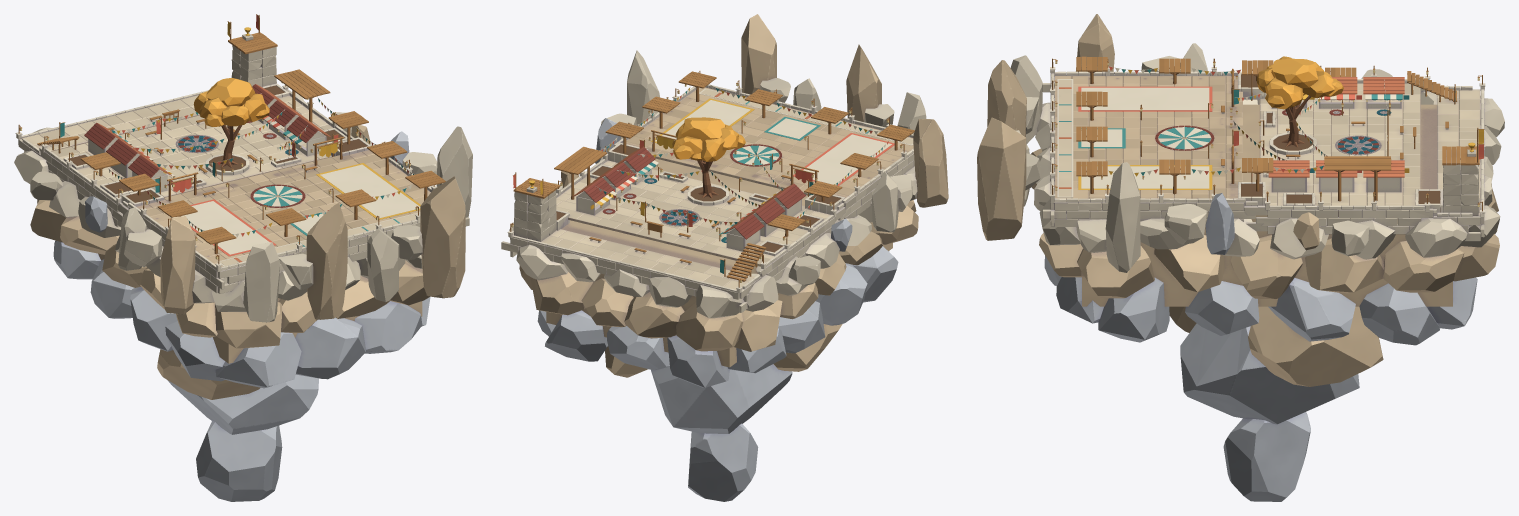
Rendered from village_1.glb.
The picture shows the model from 3 angles, left to right: view 1: azimuth 30°, elevation 25°; view 2: azimuth 150°, elevation 25°; view 3: azimuth 270°, elevation 25°; orthographic projection. The views are drawn at different scales.
Parts seen in each view (by area): view 1: Lobby_Crag_Blue, Lobby_Crag_Sand, Lobby_Crag_Cream, Lobby_Obby_Timber, Lobby_Paving5_Stone, Lobby_Paving8_Stone, Lobby_Retaining_Stone, Lobby_Parapet_Stone, Lobby_Shops_Roof, Lobby_GreatTree_Leaf, Lobby_Paving9_Stone, Lobby_Mats_KickCanvas (+15 smaller); view 2: Lobby_Crag_Sand, Lobby_Crag_Blue, Lobby_Crag_Cream, Lobby_Obby_Timber, Lobby_Retaining_Stone, Lobby_Paving5_Stone, Lobby_Paving8_Stone, Lobby_Parapet_Stone, Lobby_Shops_Roof, Lobby_Paving6_Stone, Lobby_GreatTree_Leaf, Lobby_Paving7_Stone (+15 smaller); view 3: Lobby_Crag_Sand, Lobby_Crag_Blue, Lobby_Crag_Cream, Lobby_Obby_Timber, Lobby_Retaining_Stone, Lobby_Paving8_Stone, Lobby_Parapet_Stone, Lobby_Paving5_Stone, Lobby_Paving7_Stone, Lobby_Paving4_Stone, Lobby_GreatTree_Leaf, Lobby_Paving9_Stone (+15 smaller).
Part boxes in pixels (left/top/right/bottom): Lobby_Crag_Blue: left=53, top=131, right=430, bottom=501; Lobby_Crag_Sand: left=30, top=125, right=465, bottom=399; Lobby_Crag_Cream: left=14, top=92, right=472, bottom=322; Lobby_Obby_Timber: left=37, top=32, right=445, bottom=253; Lobby_Paving5_Stone: left=129, top=115, right=282, bottom=187; Lobby_Paving8_Stone: left=211, top=167, right=368, bottom=243; Lobby_Retaining_Stone: left=18, top=95, right=469, bottom=293; Lobby_Parapet_Stone: left=15, top=85, right=436, bottom=271; Lobby_Shops_Roof: left=84, top=84, right=330, bottom=177; Lobby_GreatTree_Leaf: left=193, top=78, right=269, bottom=126; Lobby_Paving9_Stone: left=291, top=150, right=430, bottom=224; Lobby_Mats_KickCanvas: left=320, top=164, right=420, bottom=218; Lobby_Crag_Sand: left=519, top=14, right=948, bottom=377; Lobby_Crag_Blue: left=537, top=118, right=898, bottom=501; Lobby_Crag_Cream: left=509, top=50, right=926, bottom=318; Lobby_Obby_Timber: left=513, top=71, right=914, bottom=281; Lobby_Retaining_Stone: left=501, top=89, right=914, bottom=312; Lobby_Paving5_Stone: left=615, top=177, right=753, bottom=246; Lobby_Paving8_Stone: left=693, top=105, right=850, bottom=183; Lobby_Parapet_Stone: left=507, top=84, right=913, bottom=293; Lobby_Shops_Roof: left=572, top=147, right=805, bottom=239; Lobby_Paving6_Stone: left=556, top=160, right=677, bottom=228; Lobby_GreatTree_Leaf: left=672, top=117, right=745, bottom=161; Lobby_Paving7_Stone: left=768, top=123, right=913, bottom=197; Lobby_Crag_Sand: left=977, top=14, right=1499, bottom=386; Lobby_Crag_Blue: left=1044, top=193, right=1477, bottom=501; Lobby_Crag_Cream: left=1010, top=43, right=1504, bottom=272; Lobby_Obby_Timber: left=1076, top=56, right=1479, bottom=201; Lobby_Retaining_Stone: left=1042, top=75, right=1484, bottom=241; Lobby_Paving8_Stone: left=1054, top=117, right=1242, bottom=159; Lobby_Parapet_Stone: left=1050, top=67, right=1485, bottom=217; Lobby_Paving5_Stone: left=1260, top=125, right=1420, bottom=166; Lobby_Paving7_Stone: left=1054, top=76, right=1242, bottom=117; Lobby_Paving4_Stone: left=1260, top=83, right=1420, bottom=124; Lobby_GreatTree_Leaf: left=1257, top=56, right=1343, bottom=109; Lobby_Paving9_Stone: left=1054, top=159, right=1242, bottom=200.
Size of the model in its own units: 204 by 243 by 268.
67 materials, 67 textured.
